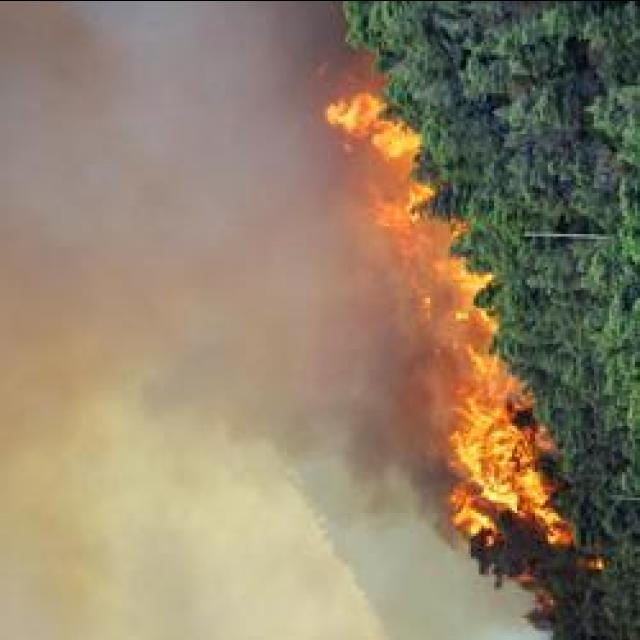fire: (366, 198, 494, 388), (436, 402, 560, 557), (314, 95, 422, 163)
smoke: (278, 324, 429, 528), (2, 2, 122, 104), (221, 9, 353, 88)
